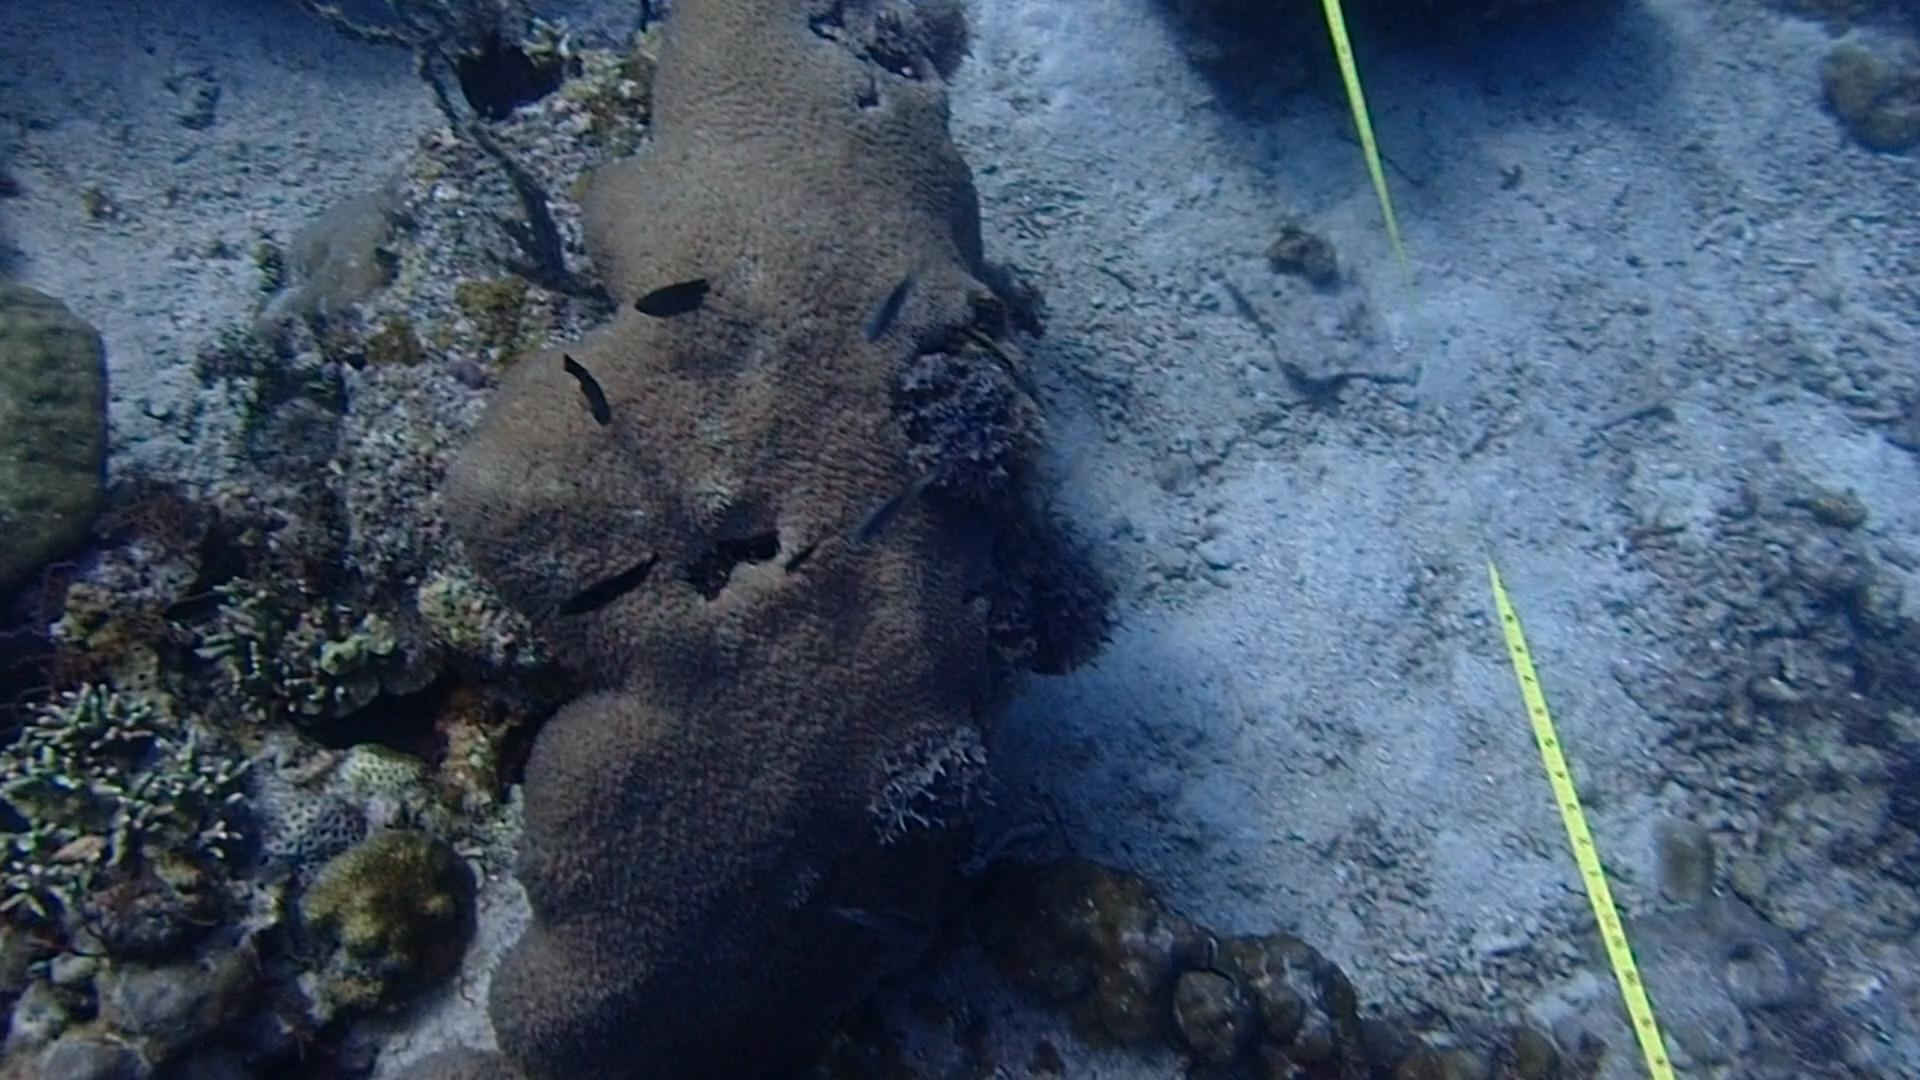Dark Fish: (542, 546, 650, 626), (543, 340, 615, 429), (637, 265, 716, 330), (777, 526, 829, 583)
Light Fish: (855, 464, 940, 554), (836, 891, 945, 951), (852, 268, 919, 353)
